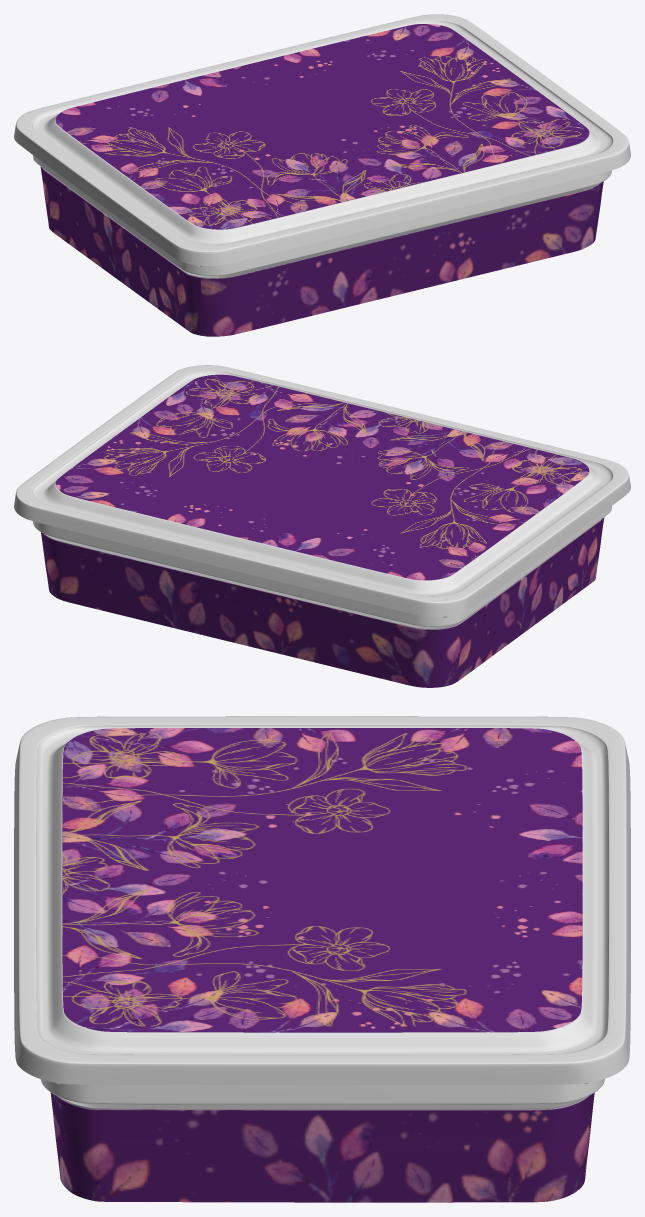
The model's file is 500gms.glb.
3 views of the same model, one above another, from view 1: azimuth 30°, elevation 25°; view 2: azimuth 150°, elevation 25°; view 3: azimuth 270°, elevation 25° (orthographic). The views are drawn at different scales.
Visible parts, largest first — view 1: top label, bottom label, Plane.003, new model; view 2: top label, bottom label, Plane.003, new model; view 3: top label, Plane.003, bottom label, new model.
Part boxes in pixels (left/top/right/bottom): top label: left=55, top=24, right=589, bottom=229; bottom label: left=40, top=167, right=603, bottom=336; Plane.003: left=14, top=14, right=630, bottom=265; new model: left=33, top=155, right=611, bottom=278; top label: left=55, top=374, right=589, bottom=580; bottom label: left=41, top=517, right=604, bottom=687; Plane.003: left=14, top=365, right=630, bottom=616; new model: left=33, top=506, right=611, bottom=629; top label: left=62, top=728, right=582, bottom=1032; Plane.003: left=14, top=716, right=630, bottom=1084; bottom label: left=50, top=1093, right=594, bottom=1202; new model: left=40, top=1079, right=604, bottom=1110.
Bounding box in the file's own units: 0.1993 × 0.0444 × 0.1489.
Materials: 7 (3 with a texture image).
